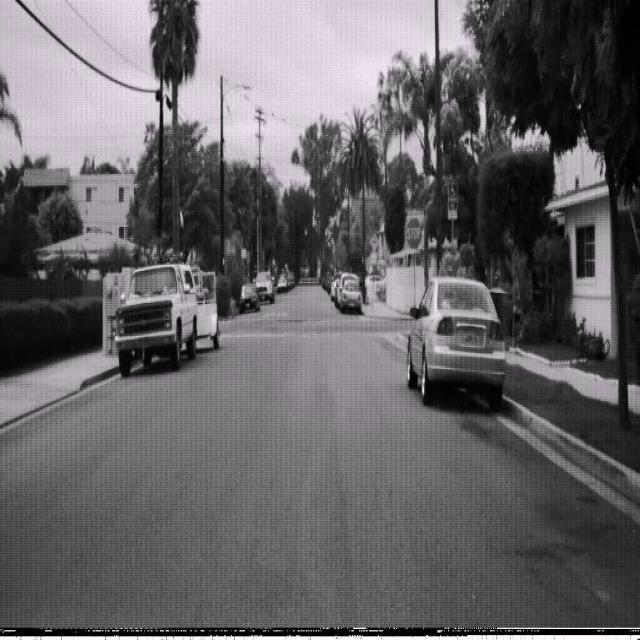stop: (406, 216, 422, 250)
